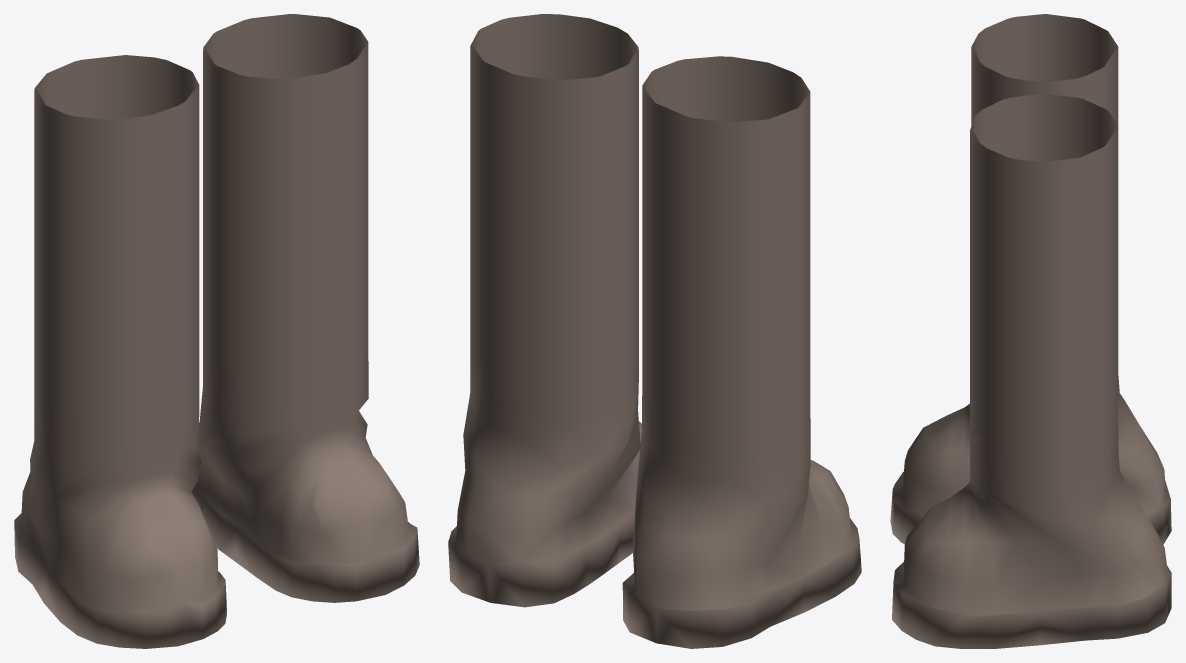
Rendered from tall-boots-only.glb.
The picture shows the model from 3 angles, left to right: view 1: azimuth 30°, elevation 25°; view 2: azimuth 150°, elevation 25°; view 3: azimuth 270°, elevation 25°; orthographic projection. The views are drawn at different scales.
Parts seen in each view (by area): view 1: Footwear_tall-boots_0; view 2: Footwear_tall-boots_0; view 3: Footwear_tall-boots_0.
Part boxes in pixels (left/top/right/bottom): Footwear_tall-boots_0: left=14, top=14, right=419, bottom=648; Footwear_tall-boots_0: left=448, top=14, right=861, bottom=648; Footwear_tall-boots_0: left=890, top=14, right=1171, bottom=648.
Bounding box in the file's own units: 0.8813 × 1.25 × 0.6612.
